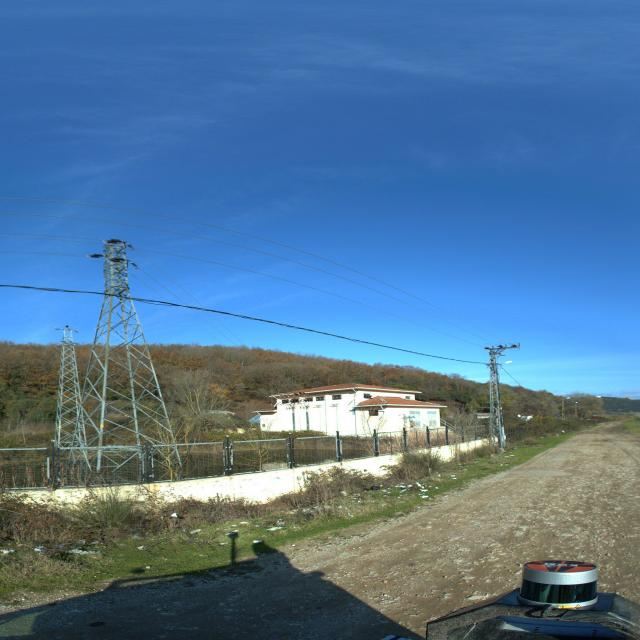Utility Pole Information Plate: (101, 424, 104, 428)
